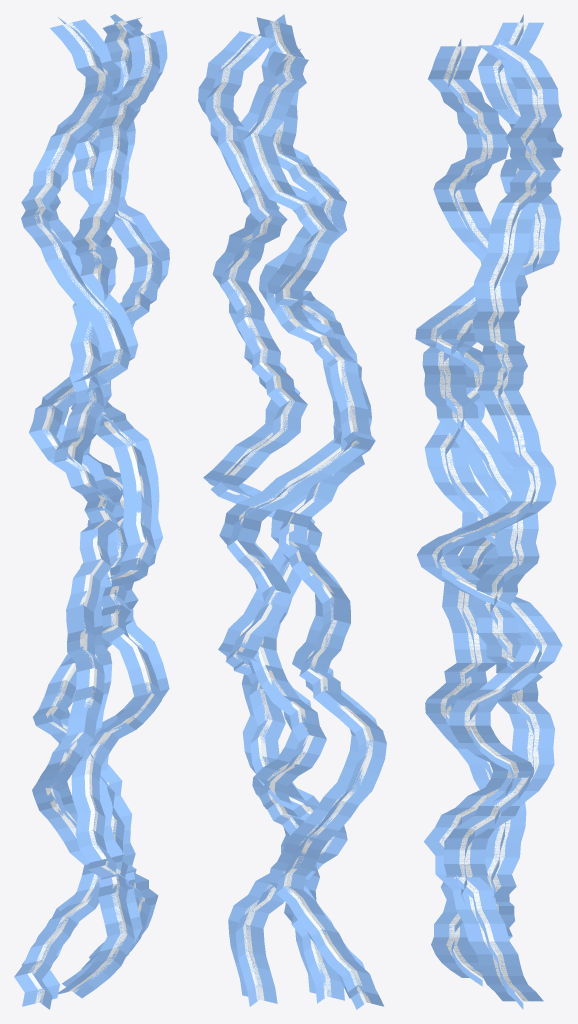
The model's file is spektr_bolt_1.glb.
The picture shows the model from 3 angles, left to right: view 1: azimuth 30°, elevation 25°; view 2: azimuth 150°, elevation 25°; view 3: azimuth 270°, elevation 25°; orthographic projection.
Bounding box in the file's own units: 0.6341 × 3.6 × 0.5022.
